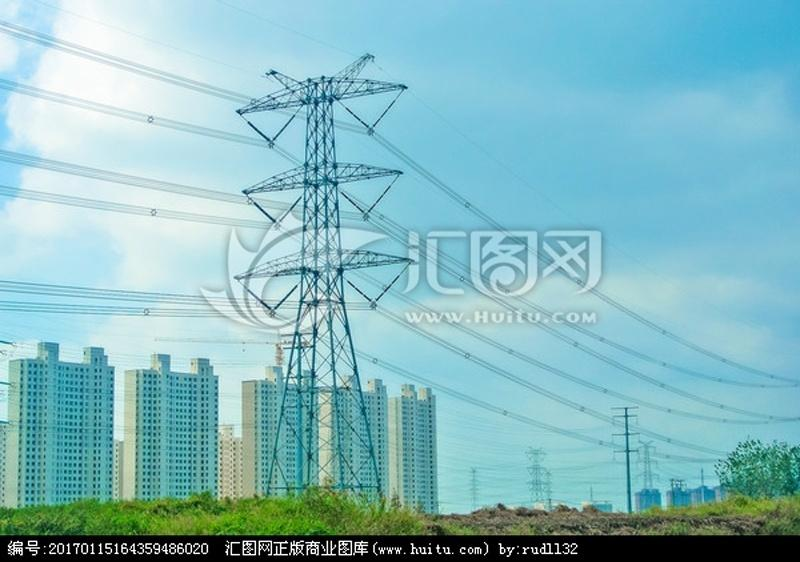power_tower: (220, 52, 398, 511)
